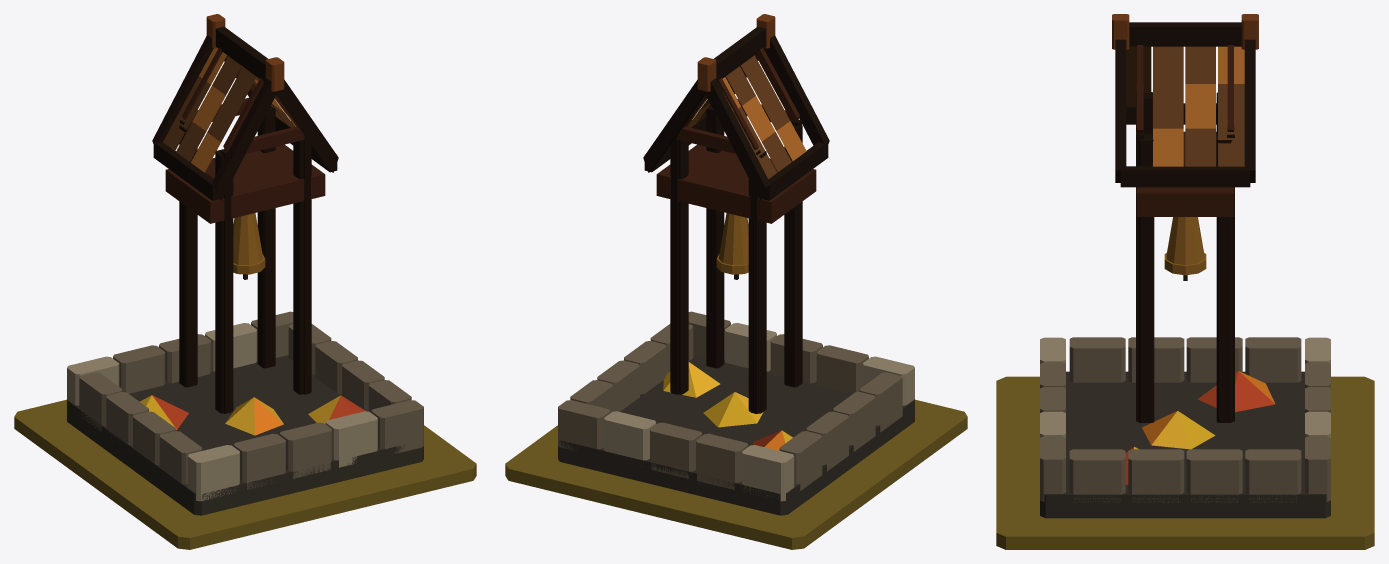
Rendered from bellcote_t1.glb.
The picture shows the model from 3 angles, left to right: view 1: azimuth 30°, elevation 25°; view 2: azimuth 150°, elevation 25°; view 3: azimuth 270°, elevation 25°; orthographic projection. The views are drawn at different scales.
Parts seen in each view (by area): view 1: MMR | bellcote | T01 Architecture.001, MMR | bellcote | Tier 01 Ground.001, MMR | bellcote | T01 Autumn Dressing.001; view 2: MMR | bellcote | T01 Architecture.001, MMR | bellcote | Tier 01 Ground.001, MMR | bellcote | T01 Autumn Dressing.001; view 3: MMR | bellcote | T01 Architecture.001, MMR | bellcote | Tier 01 Ground.001, MMR | bellcote | T01 Autumn Dressing.001.
Part boxes in pixels (box(x1,y1,x2,y2)): MMR | bellcote | T01 Architecture.001: box(67, 14, 423, 515); MMR | bellcote | Tier 01 Ground.001: box(14, 399, 476, 549); MMR | bellcote | T01 Autumn Dressing.001: box(140, 395, 365, 435); MMR | bellcote | T01 Architecture.001: box(558, 14, 914, 515); MMR | bellcote | Tier 01 Ground.001: box(505, 399, 967, 549); MMR | bellcote | T01 Autumn Dressing.001: box(663, 362, 793, 450); MMR | bellcote | T01 Architecture.001: box(1040, 14, 1330, 518); MMR | bellcote | Tier 01 Ground.001: box(996, 376, 1374, 549); MMR | bellcote | T01 Autumn Dressing.001: box(1125, 371, 1275, 485).
Size of the model in its own units: 1.3 by 1.71 by 1.3.
1 material, 1 textured.
